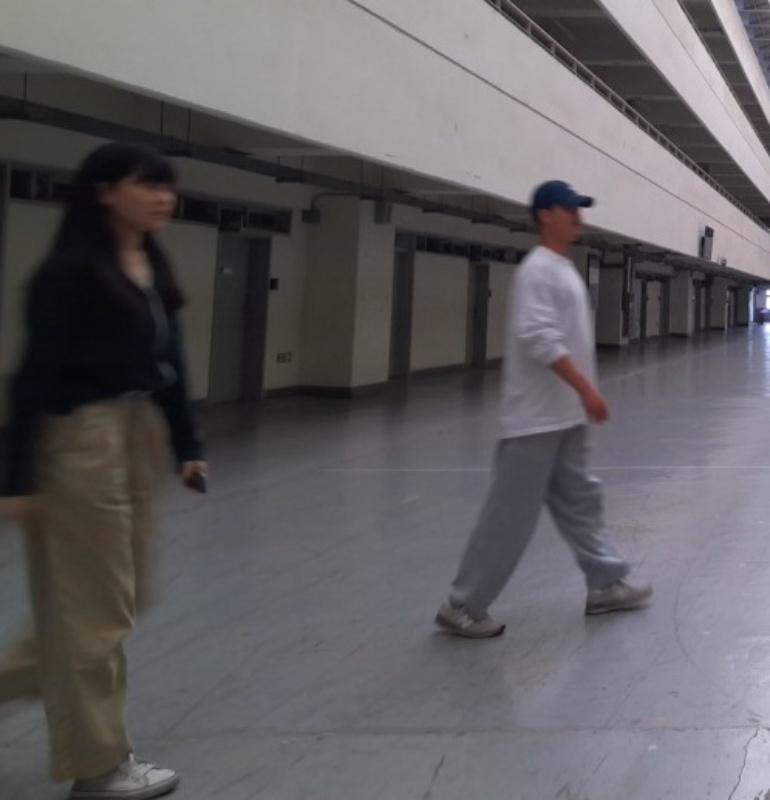person: (433, 179, 654, 637)
